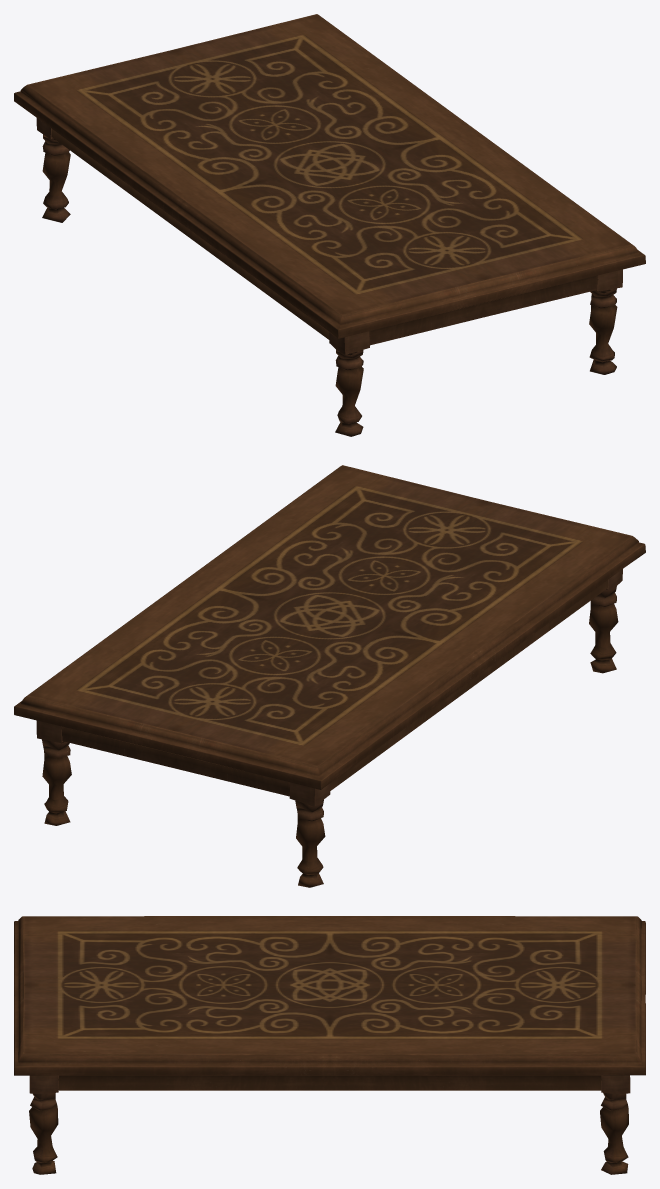
File: SM_Coffee_Table.FBX
3 views of the same model, one above another, from view 1: azimuth 30°, elevation 25°; view 2: azimuth 150°, elevation 25°; view 3: azimuth 270°, elevation 25° (orthographic). The views are drawn at different scales.
Parts seen in each view (by area): view 1: SM_Coffee_Table; view 2: SM_Coffee_Table; view 3: SM_Coffee_Table.
Part boxes in pixels (left/top/right/bottom): SM_Coffee_Table: left=14, top=14, right=645, bottom=436; SM_Coffee_Table: left=14, top=465, right=645, bottom=887; SM_Coffee_Table: left=14, top=916, right=645, bottom=1174.
Size of the model in its own units: 110 by 200 by 43.85.
